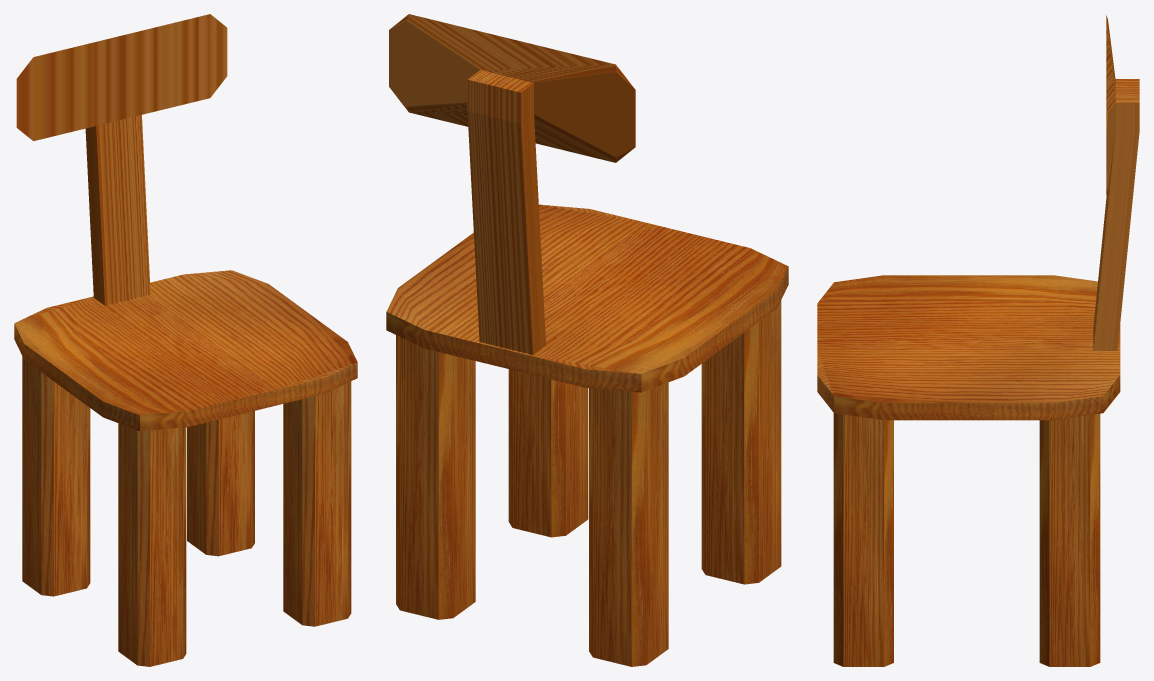
Rendered from kid_chair.fbx.
3 renders of one model, left to right at view 1: azimuth 30°, elevation 25°; view 2: azimuth 150°, elevation 25°; view 3: azimuth 270°, elevation 25°, orthographic. The views are drawn at different scales.
Visible parts, largest first — view 1: assise, leg_01, leg_04, leg_02, leg_03; view 2: assise, leg_02, leg_03, leg_01, leg_04; view 3: assise, leg_03, leg_04.
Part boxes in pixels (left/top/right/bottom): assise: left=14, top=14, right=357, bottom=431; leg_01: left=118, top=423, right=186, bottom=666; leg_04: left=283, top=381, right=351, bottom=626; leg_02: left=22, top=356, right=90, bottom=596; leg_03: left=187, top=411, right=254, bottom=556; assise: left=386, top=14, right=788, bottom=392; leg_02: left=589, top=382, right=668, bottom=666; leg_03: left=396, top=335, right=475, bottom=619; leg_01: left=701, top=300, right=781, bottom=584; leg_04: left=508, top=369, right=588, bottom=537; assise: left=817, top=15, right=1139, bottom=420; leg_03: left=1039, top=413, right=1100, bottom=666; leg_04: left=833, top=413, right=893, bottom=666.
Bounding box in the file's own units: 50 × 100 × 53.21.
